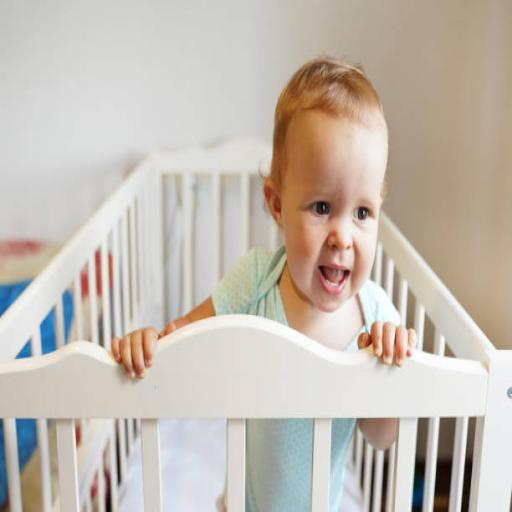baby: (112, 58, 416, 376)
crib: (0, 140, 511, 511)
